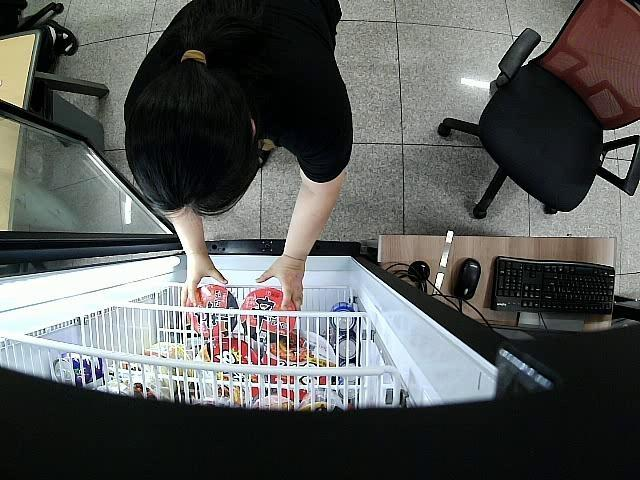01_ShinRamen_L: (182, 283, 238, 338), (241, 289, 296, 344)
